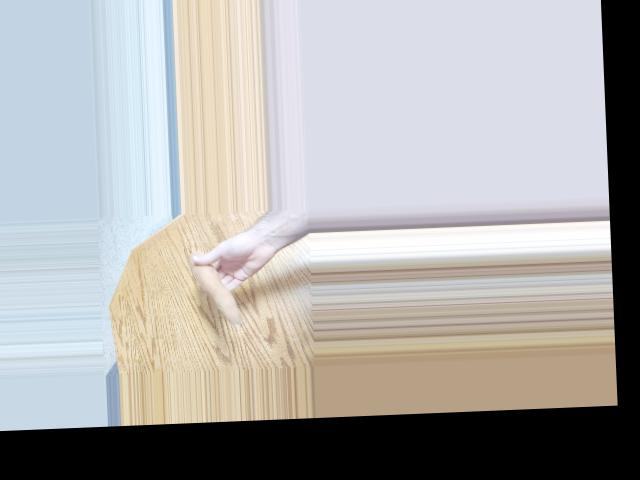sweet_potato: (188, 246, 242, 325)
